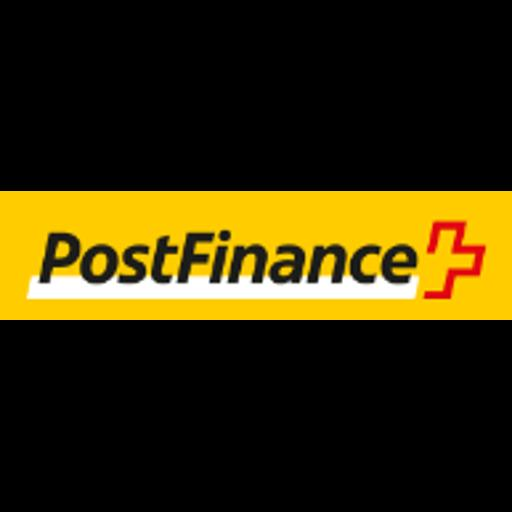PostFinance: (0, 191, 512, 320)
